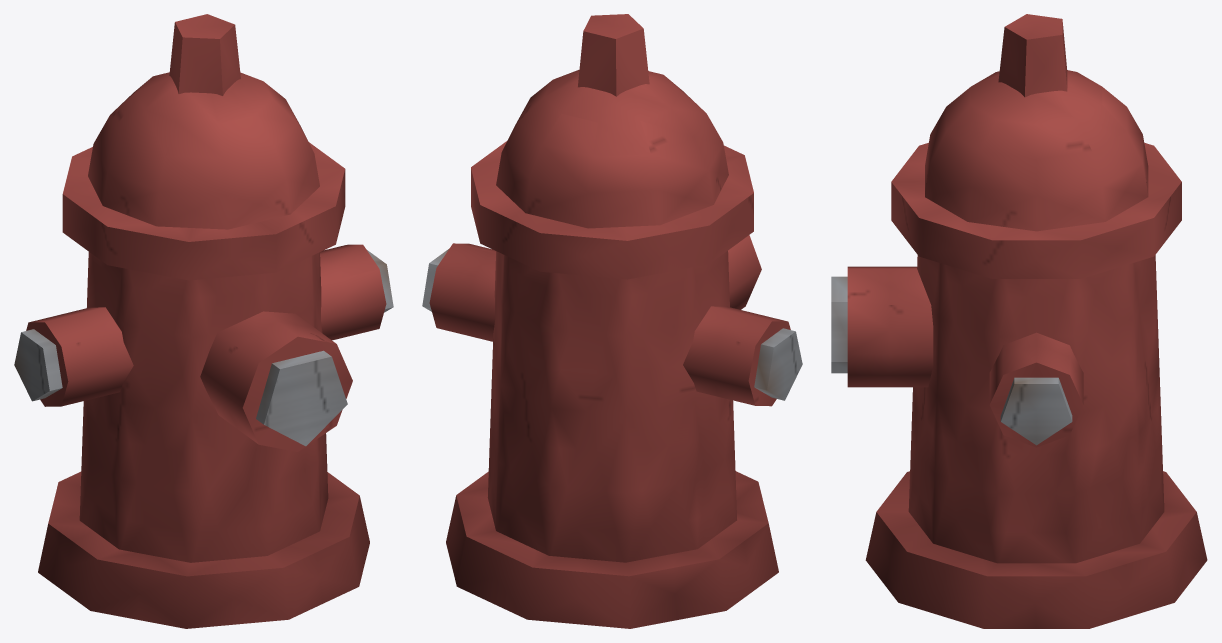
The model's file is fire_hydrant.glb.
The picture shows the model from 3 angles, left to right: view 1: azimuth 30°, elevation 25°; view 2: azimuth 150°, elevation 25°; view 3: azimuth 270°, elevation 25°; orthographic projection.
Visible parts, largest first — view 1: fire_hydrant; view 2: fire_hydrant; view 3: fire_hydrant.
Boxes of the visible parts, x1,y1,x2,y2 form: fire_hydrant: [14, 14, 393, 628]; fire_hydrant: [422, 14, 802, 628]; fire_hydrant: [831, 14, 1207, 628].
Bounding box in the file's own units: 1.87 × 2.76 × 1.76.
Materials: 2 (2 with a texture image).
